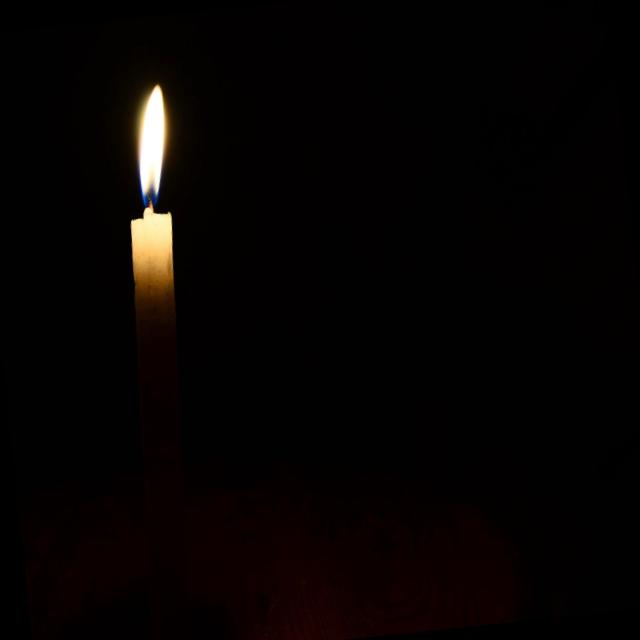Fire_Save: (128, 82, 175, 210)
